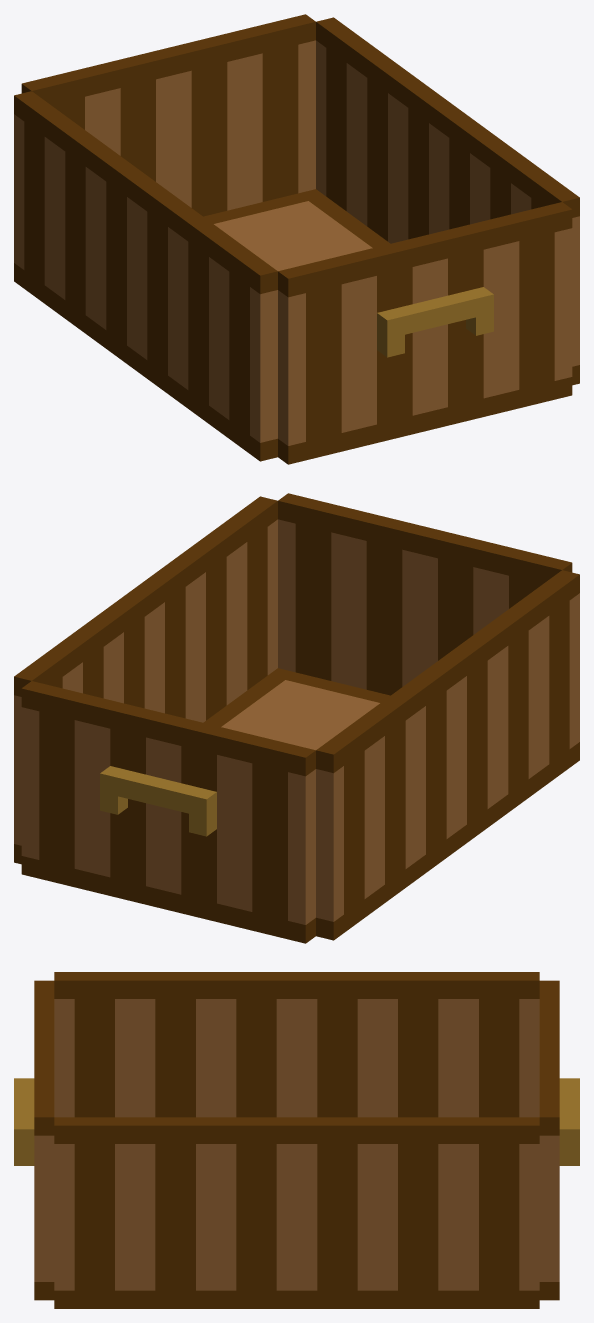
The model's file is Crate D.obj.
3 renders of one model, top to bottom at view 1: azimuth 30°, elevation 25°; view 2: azimuth 150°, elevation 25°; view 3: azimuth 270°, elevation 25°, orthographic.
Visible parts, largest first — view 1: Crate D; view 2: Crate D; view 3: Crate D.
Part boxes in pixels (x1,y1,x2,y2): Crate D: (14, 14, 579, 464); Crate D: (14, 493, 579, 943); Crate D: (14, 972, 579, 1308).
Bounding box in the file's own units: 18 × 10 × 28.
